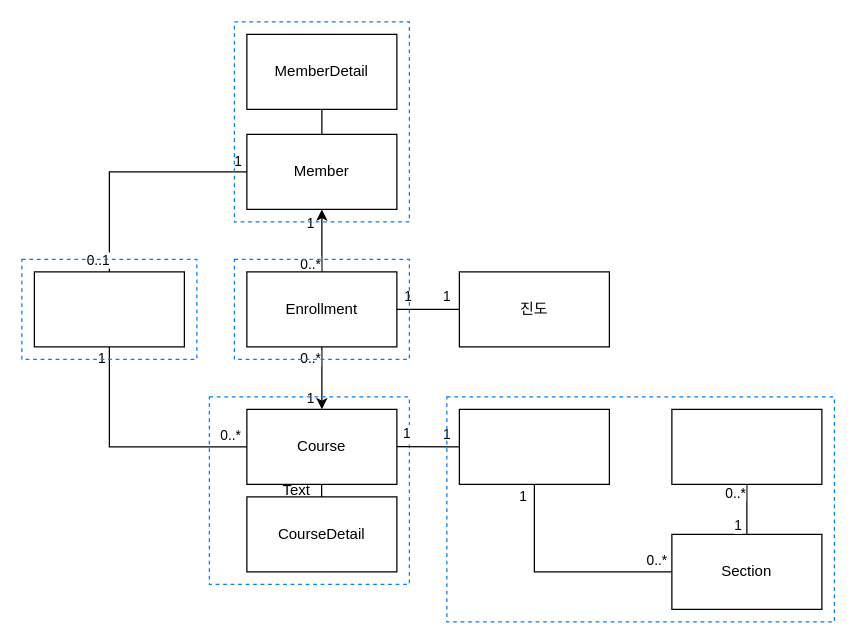
Image size: 856x644. Some labels were removed from this diagram. Here are the shapes that lost their labels. From the top down, the centre of each, then its label:
At point 108,309: "Instructor".
At point 533,446: "Curriculum".
At point 746,446: "Lesson".
